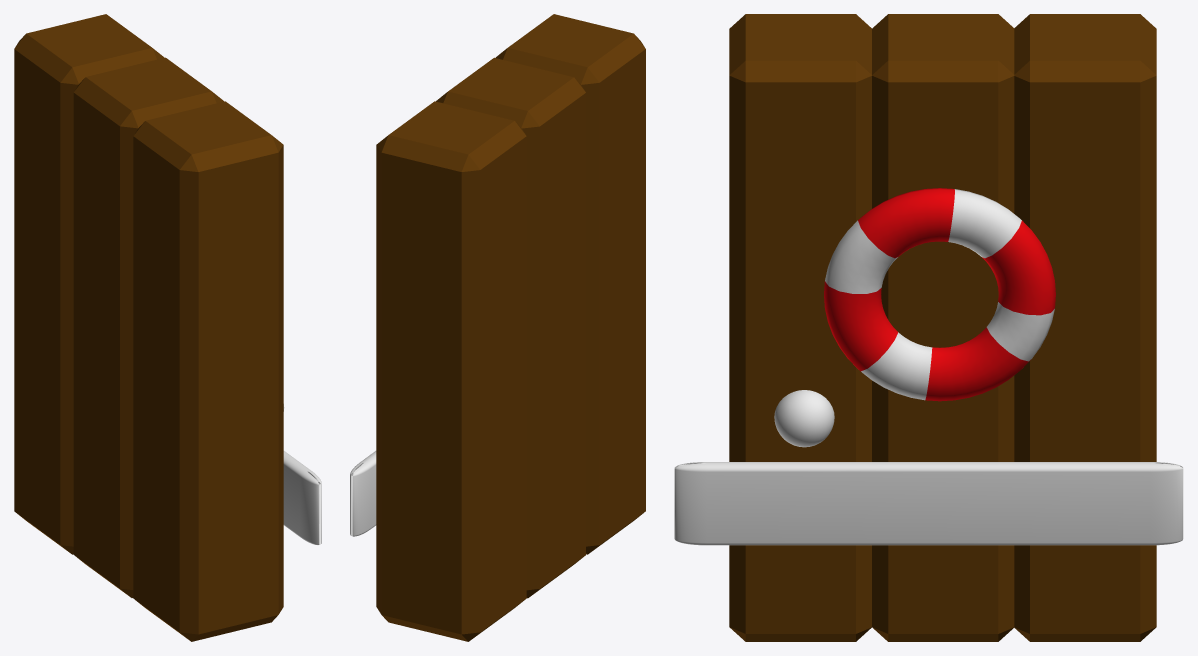
Rendered from SeaDoor.fbx.
The picture shows the model from 3 angles, left to right: view 1: azimuth 30°, elevation 25°; view 2: azimuth 150°, elevation 25°; view 3: azimuth 270°, elevation 25°; orthographic projection. The views are drawn at different scales.
Parts seen in each view (by area): view 1: Cube.011, Cube.012; view 2: Cube.011, Cube.012; view 3: Cube.011, Cube.012, Torus, Roundcube.001.
Part boxes in pixels (x1,y1,x2,y2): Cube.011: [14, 14, 283, 641]; Cube.012: [283, 451, 321, 544]; Cube.011: [376, 14, 645, 641]; Cube.012: [350, 451, 376, 536]; Cube.011: [729, 14, 1156, 641]; Cube.012: [674, 462, 1183, 545]; Torus: [824, 188, 1055, 401]; Roundcube.001: [774, 390, 834, 447].
Bounding box in the file's own units: 262 × 910 × 722.
